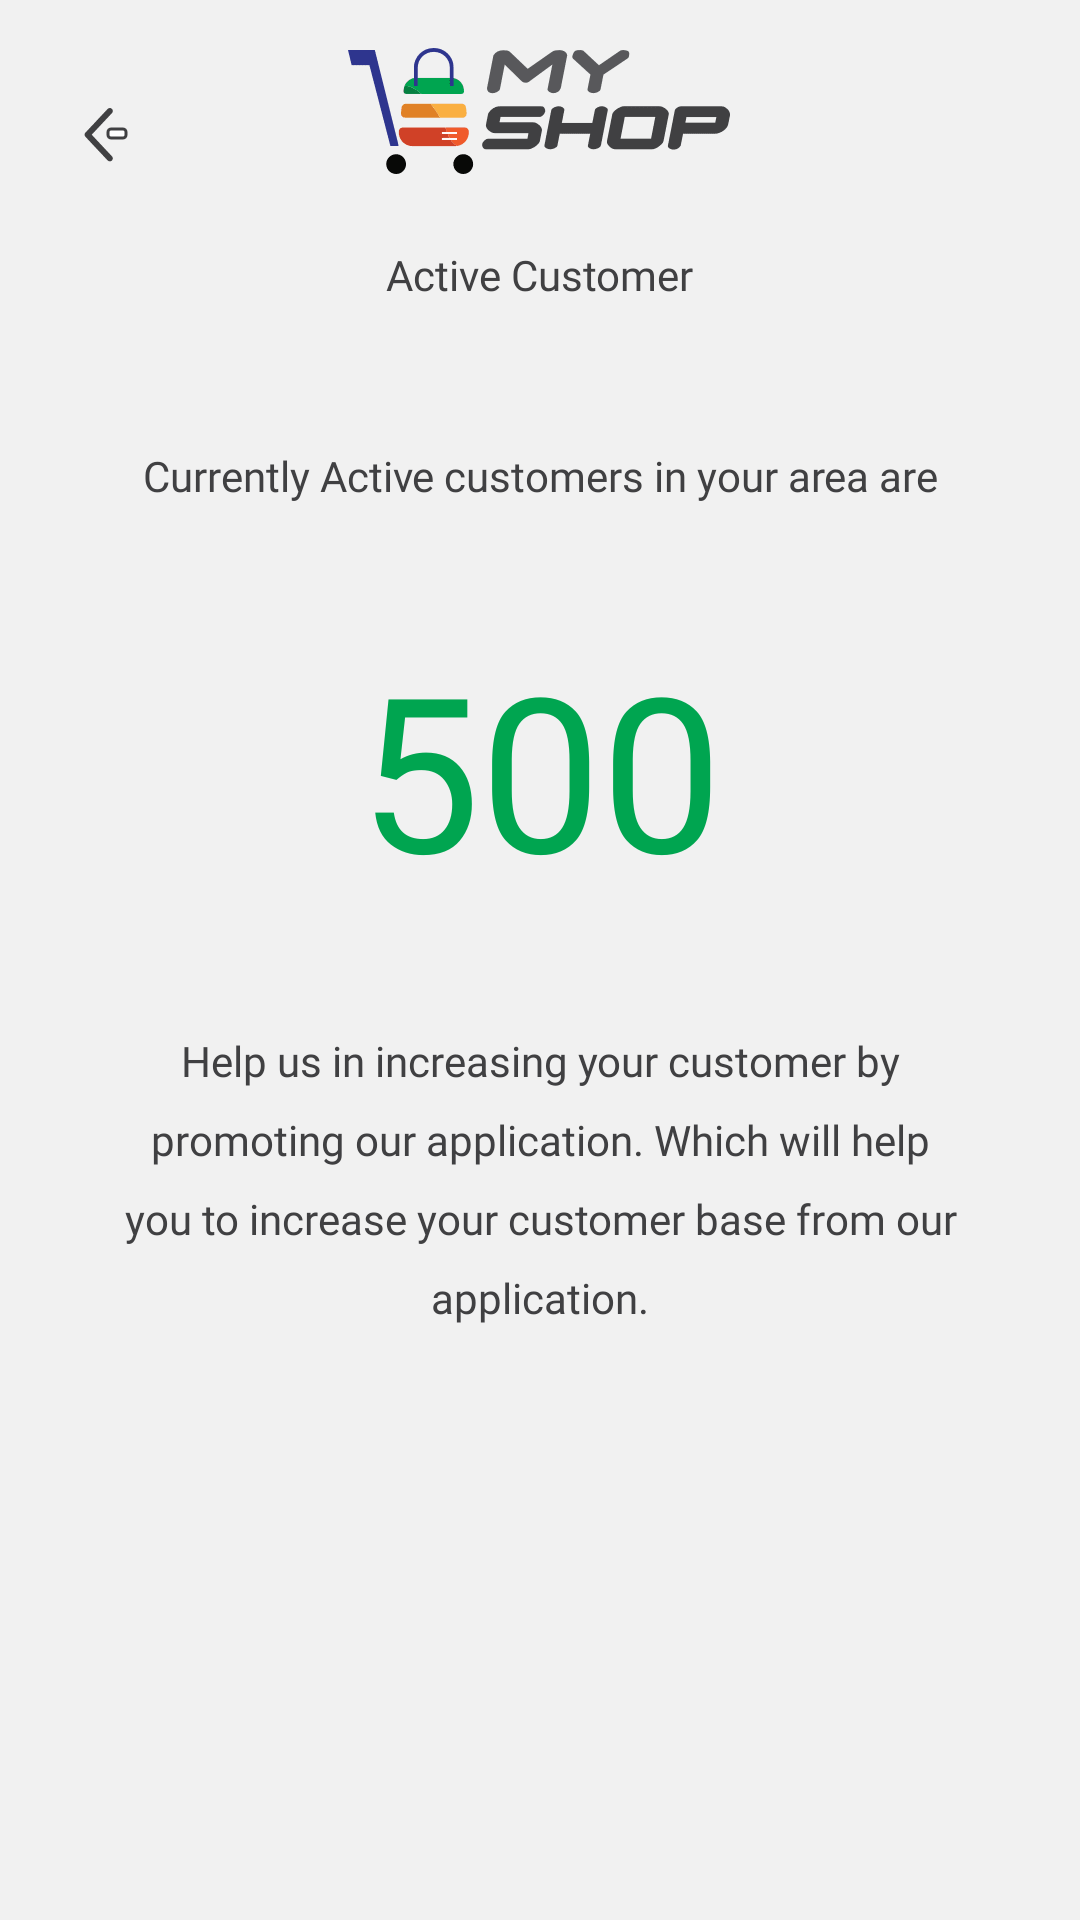

Locate icon controls on the screen. Image size 1080px x 1920px, boxes as (x1, y1, x2, y2).
back arrow: (84, 108, 128, 162)
